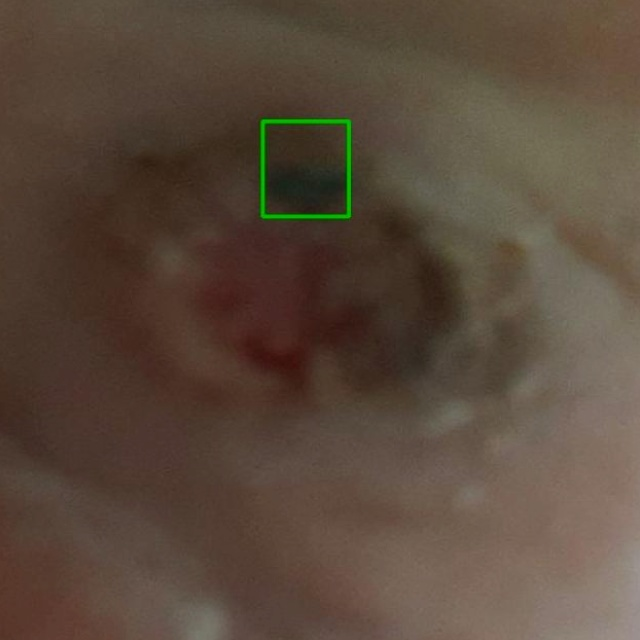Eczema: (262, 121, 349, 216)
